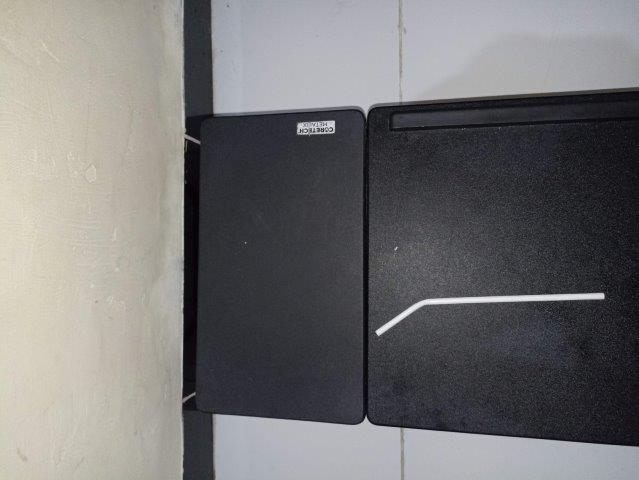sedotan: (375, 293, 604, 337)
